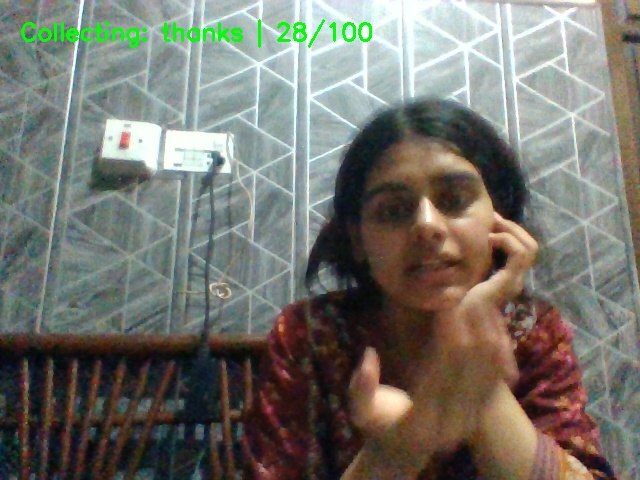thanks: (324, 281, 554, 480)
